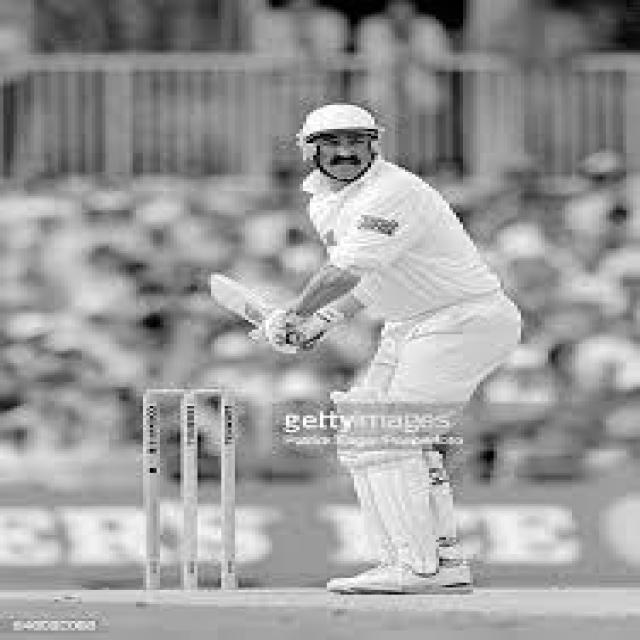bat: (202, 268, 270, 322)
toe: (202, 272, 230, 305)
